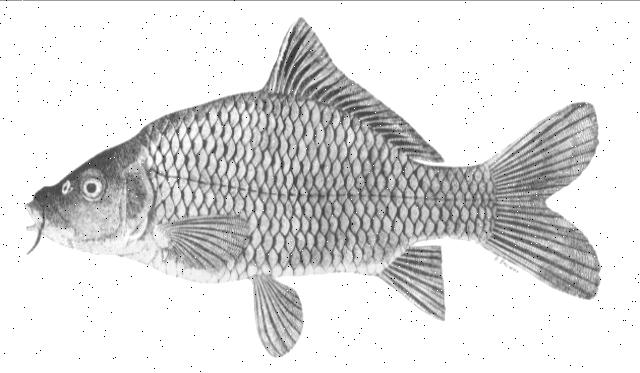Mulut: (9, 183, 58, 253)
Sirip Anal: (384, 240, 454, 325)
Sirip Dada: (145, 206, 265, 274)
Sirip Ekor: (482, 94, 616, 302)
Sirip Perut: (246, 269, 308, 359)
Sirip Punggung: (260, 12, 448, 170)
